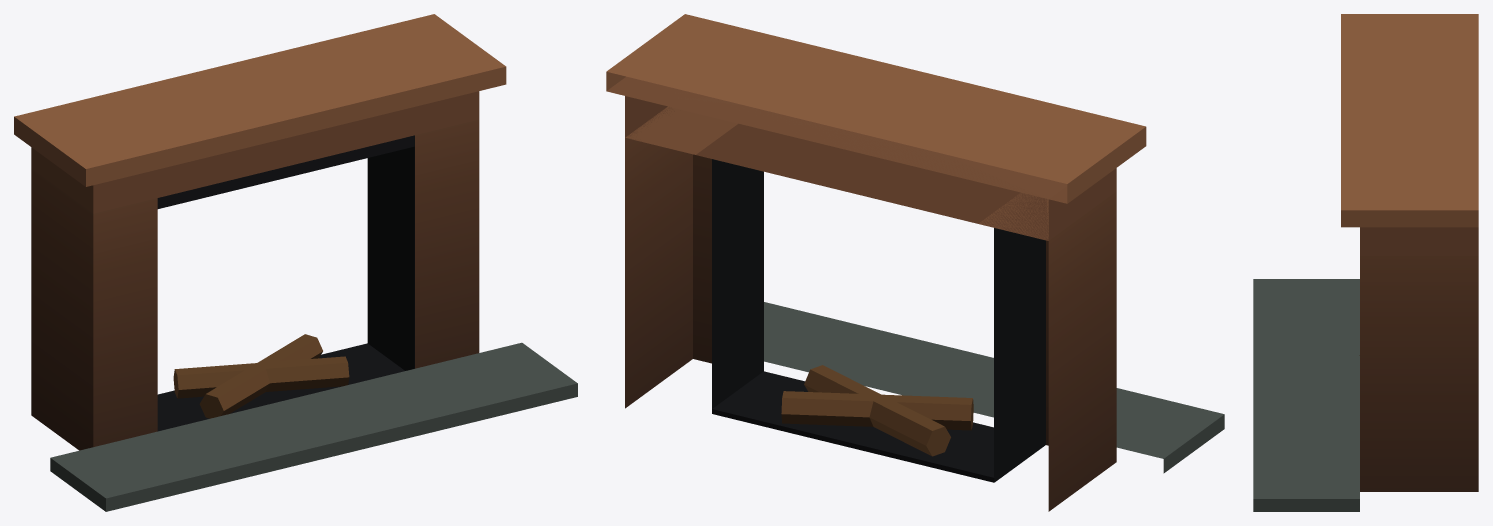
Rendered from SM_Fireplace.fbx.
The picture shows the model from 3 angles, left to right: view 1: azimuth 30°, elevation 25°; view 2: azimuth 150°, elevation 25°; view 3: azimuth 270°, elevation 25°; orthographic projection. The views are drawn at different scales.
Parts seen in each view (by area): view 1: SM_Fireplace; view 2: SM_Fireplace; view 3: SM_Fireplace.
Boxes of the visible parts, x1,y1,x2,y2 form: SM_Fireplace: (14,14,577,511); SM_Fireplace: (606,14,1224,511); SM_Fireplace: (1253,14,1478,511).
Size of the model in its own units: 2.2 by 1.35 by 0.95.
